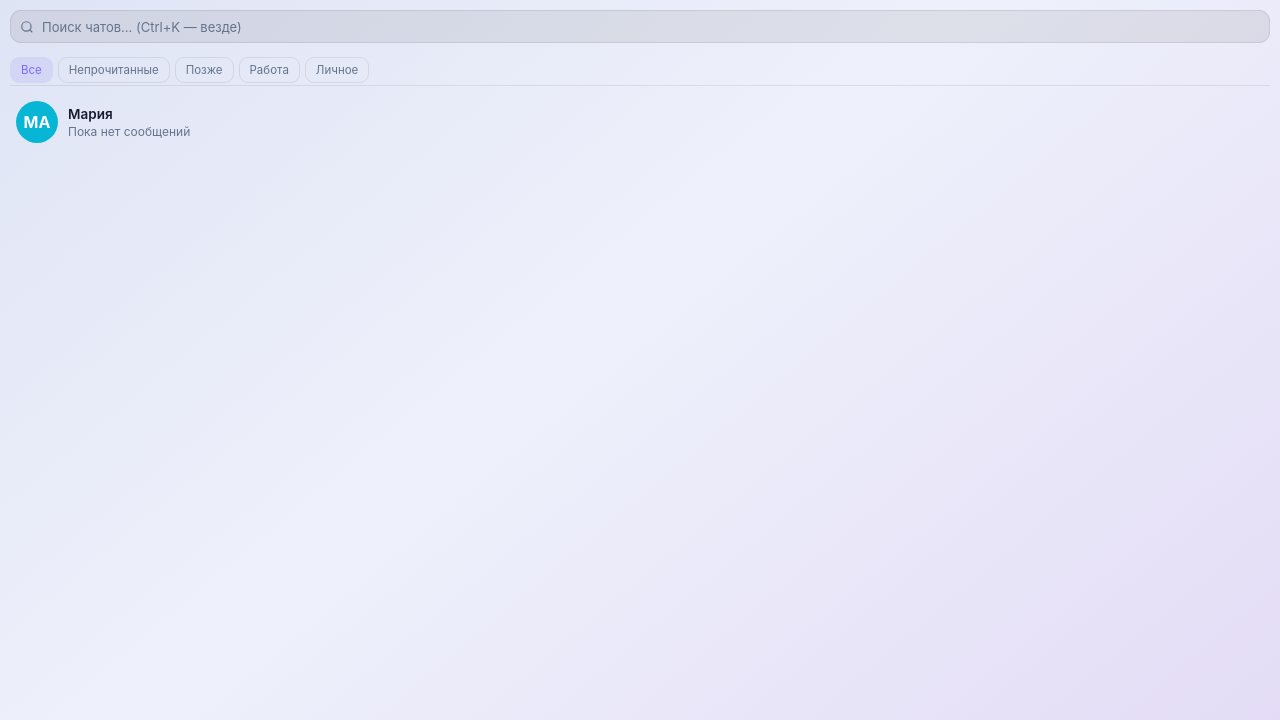
Test case: the chat list context menu › asks before doing anything
Right-click the text "Мария": (90, 114) [68,106,113,122]
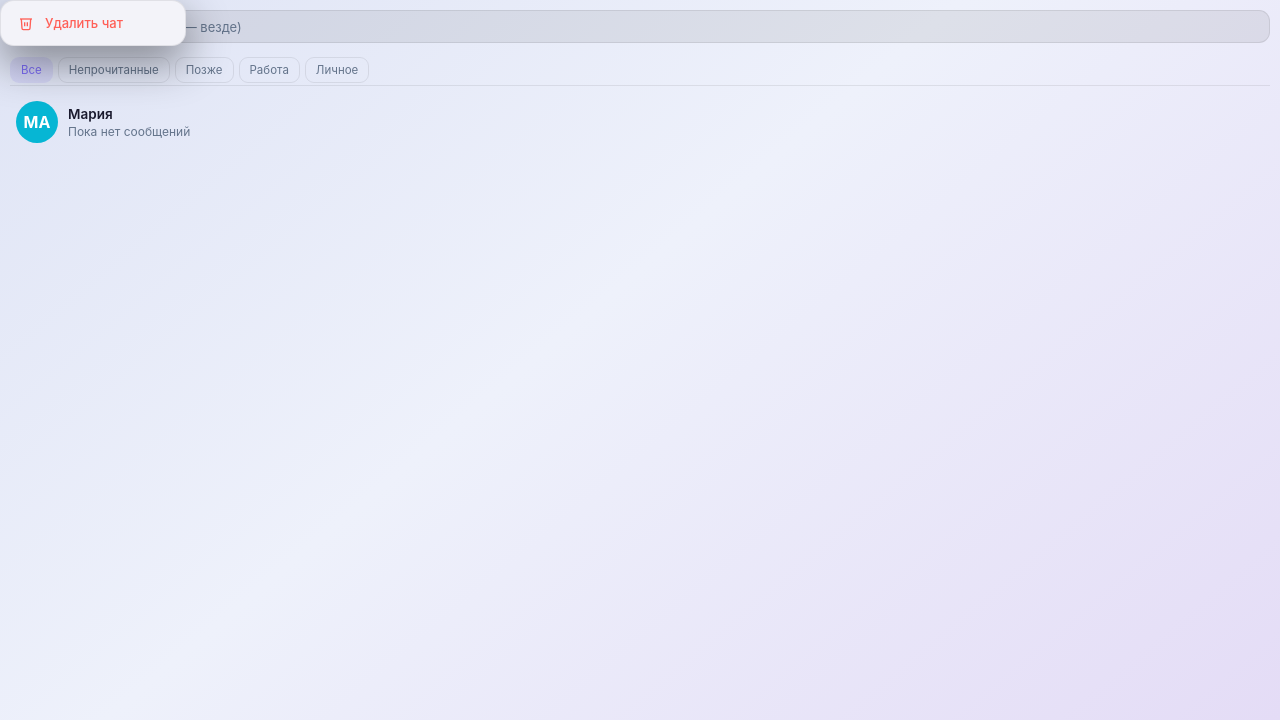
Click the text "Удалить чат": (70, 23) [18,15,123,31]
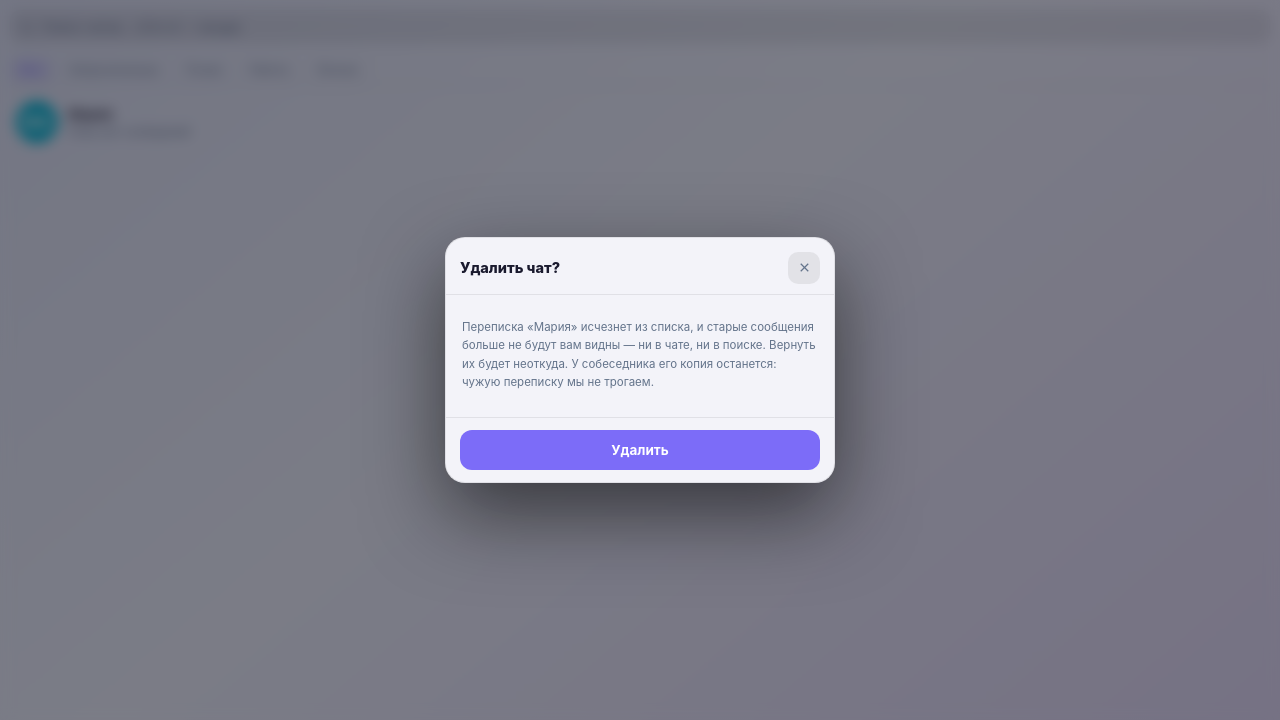
Now the text "Удалить чат?" is shown, box [460,259,560,276]
